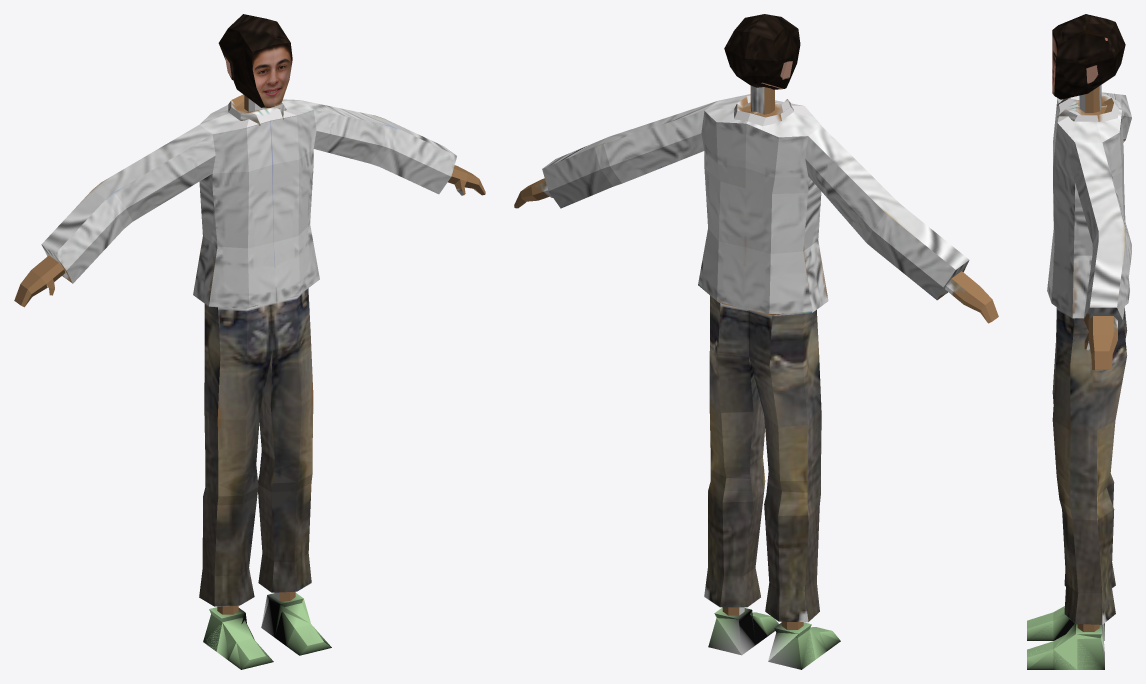
The model's file is Npc 1.fbx.
3 views of the same model, side by side, from view 1: azimuth 30°, elevation 25°; view 2: azimuth 150°, elevation 25°; view 3: azimuth 270°, elevation 25° (orthographic). The views are drawn at different scales.
Parts seen in each view (by area): view 1: Cylinder, Cube.001, Cube; view 2: Cylinder, Cube.001, Cube; view 3: Cylinder, Cube.001, Cube.
Part boxes in pixels (x1,y1,x2,y2): Cylinder: [14, 94, 485, 614]; Cube.001: [218, 14, 292, 107]; Cube: [203, 593, 331, 669]; Cylinder: [514, 85, 998, 629]; Cube.001: [724, 14, 800, 89]; Cube: [708, 607, 840, 669]; Cylinder: [1047, 85, 1131, 631]; Cube.001: [1052, 14, 1125, 99]; Cube: [1027, 606, 1104, 669].
Bounding box in the file's own units: 155 × 197 × 29.68.
